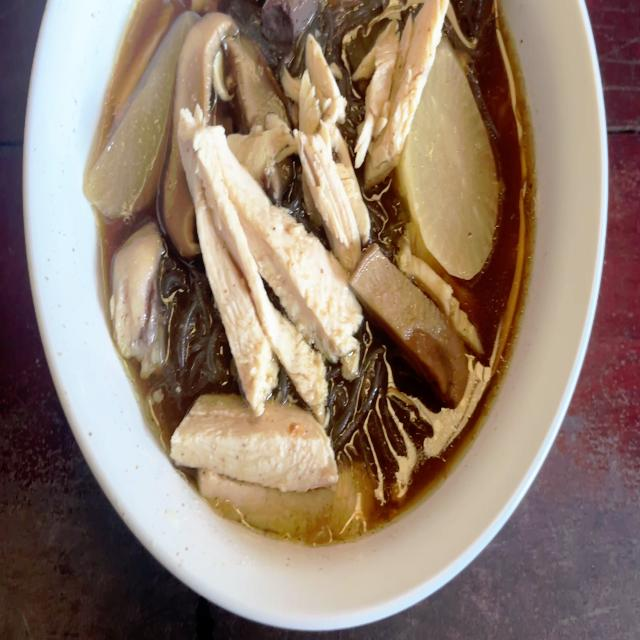chicken_shredded: (184, 105, 357, 409), (184, 391, 361, 552), (290, 38, 369, 260), (364, 0, 451, 174), (109, 225, 172, 394)
daikon_radish: (82, 0, 188, 224), (415, 69, 499, 271)
noodle: (96, 0, 534, 533)
